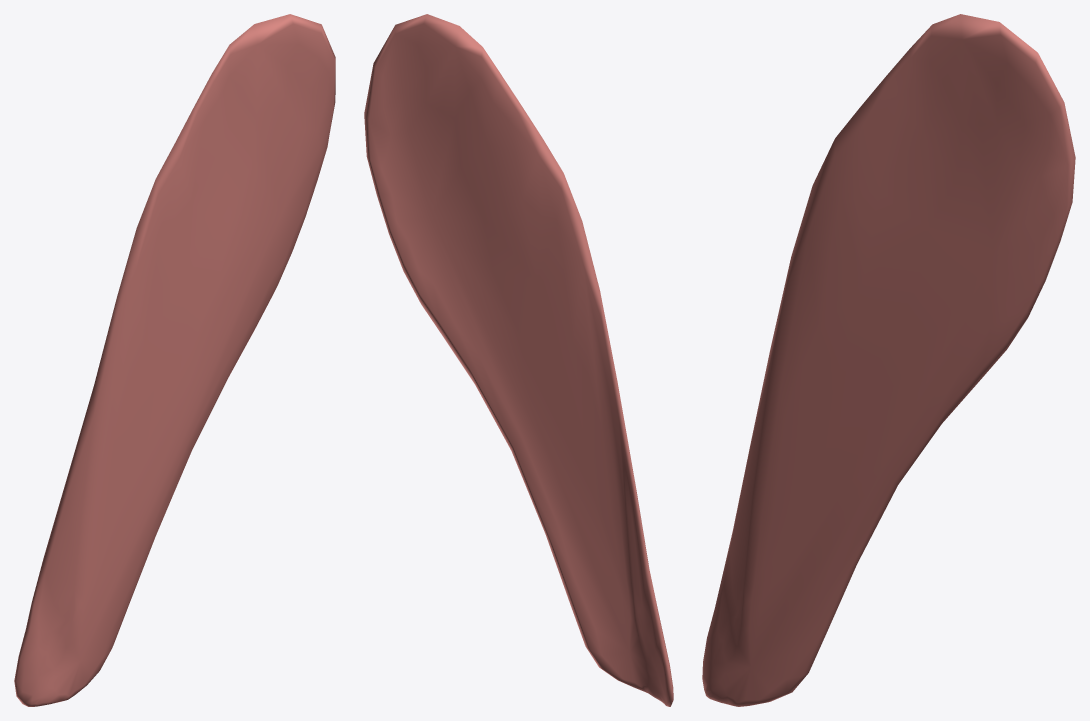
3 views of the same model, side by side, from view 1: azimuth 30°, elevation 25°; view 2: azimuth 150°, elevation 25°; view 3: azimuth 330°, elevation 25° (orthographic). The views are drawn at different scales.
Visible parts, largest first — view 1: ZA_0d0fb8ededfeac7e; view 2: ZA_0d0fb8ededfeac7e; view 3: ZA_0d0fb8ededfeac7e.
Part boxes in pixels (left/top/right/bottom): ZA_0d0fb8ededfeac7e: left=14, top=14, right=335, bottom=706; ZA_0d0fb8ededfeac7e: left=364, top=14, right=673, bottom=706; ZA_0d0fb8ededfeac7e: left=702, top=14, right=1075, bottom=706.
Size of the model in its own units: 0.0232 by 0.0446 by 0.00221.
